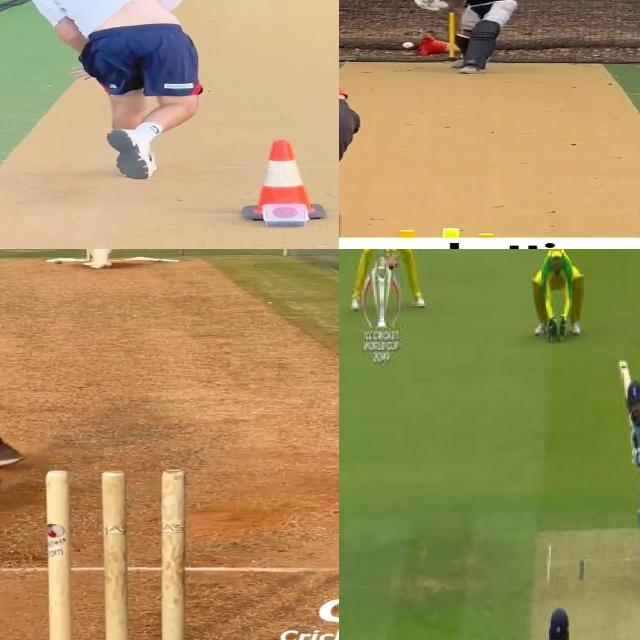Cricket ball: (402, 41, 414, 50), (54, 260, 63, 265)
Stumps: (44, 467, 190, 640)
